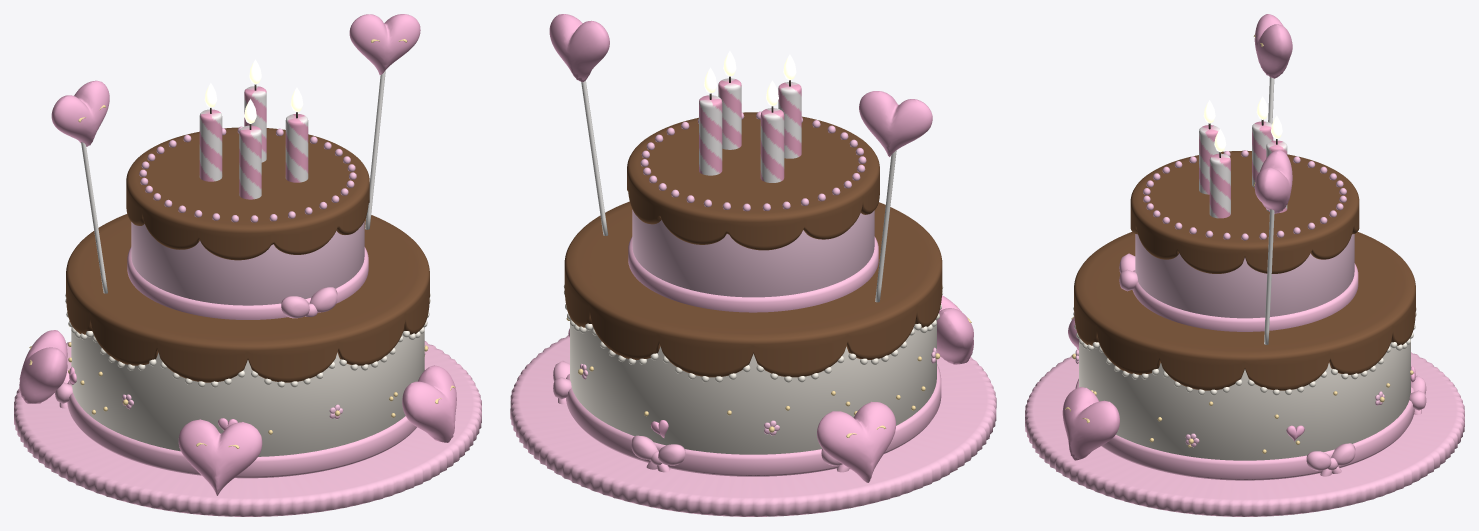
File: cake2.glb
3 views of the same model, side by side, from view 1: azimuth 30°, elevation 25°; view 2: azimuth 150°, elevation 25°; view 3: azimuth 270°, elevation 25° (orthographic). The views are drawn at different scales.
Visible parts, largest first — view 1: C2_Lower_Ganache, C2_Lower_Tier, C2_Board, C2_Upper_Ganache, C2_Hearts, C2_Upper_Tier, C2_Lower_Band, C2_Upper_Band, C2_Candle_1, C2_Pearls_Pink, C2_Candle_4, C2_Sticks (+4 smaller); view 2: C2_Lower_Ganache, C2_Board, C2_Lower_Tier, C2_Upper_Ganache, C2_Upper_Tier, C2_Hearts, C2_Lower_Band, C2_Upper_Band, C2_Bows, C2_Candle_2, C2_Candle_1, C2_Pearls_Pink (+4 smaller); view 3: C2_Lower_Ganache, C2_Board, C2_Lower_Tier, C2_Upper_Ganache, C2_Upper_Tier, C2_Hearts, C2_Lower_Band, C2_Upper_Band, C2_Bows, C2_Pearls_Pink, C2_Candle_3, C2_Pearls_White (+3 smaller).
Boxes of the visible parts, <box> form: C2_Lower_Ganache: <box>66,214,429,382</box>; C2_Lower_Tier: <box>71,327,424,456</box>; C2_Board: <box>14,341,481,516</box>; C2_Upper_Ganache: <box>126,127,369,260</box>; C2_Hearts: <box>19,14,456,495</box>; C2_Upper_Tier: <box>131,221,364,305</box>; C2_Lower_Band: <box>67,380,416,478</box>; C2_Upper_Band: <box>127,247,368,319</box>; C2_Candle_1: <box>199,109,222,181</box>; C2_Pearls_Pink: <box>139,126,356,222</box>; C2_Candle_4: <box>239,125,261,199</box>; C2_Sticks: <box>81,70,385,293</box>; C2_Lower_Ganache: <box>564,201,942,377</box>; C2_Board: <box>510,335,996,516</box>; C2_Lower_Tier: <box>570,320,936,454</box>; C2_Upper_Ganache: <box>627,112,879,250</box>; C2_Upper_Tier: <box>632,209,874,297</box>; C2_Hearts: <box>549,14,973,482</box>; C2_Lower_Band: <box>566,364,941,476</box>; C2_Upper_Band: <box>628,236,878,312</box>; C2_Bows: <box>553,361,849,472</box>; C2_Candle_2: <box>699,95,722,175</box>; C2_Candle_1: <box>760,108,784,182</box>; C2_Pearls_Pink: <box>640,111,866,211</box>; C2_Lower_Ganache: <box>1074,231,1415,390</box>; C2_Board: <box>1025,352,1464,516</box>; C2_Lower_Tier: <box>1079,339,1410,460</box>; C2_Upper_Ganache: <box>1130,150,1359,273</box>; C2_Upper_Tier: <box>1135,234,1354,318</box>; C2_Hearts: <box>1062,14,1292,460</box>; C2_Lower_Band: <box>1075,379,1414,480</box>; C2_Upper_Band: <box>1132,263,1358,331</box>; C2_Bows: <box>1119,253,1426,476</box>; C2_Pearls_Pink: <box>1143,150,1346,240</box>; C2_Candle_3: <box>1209,153,1230,218</box>; C2_Pearls_White: <box>1073,307,1416,395</box>.
Bounding box in the file's own units: 1.4 × 1.18 × 1.39.
